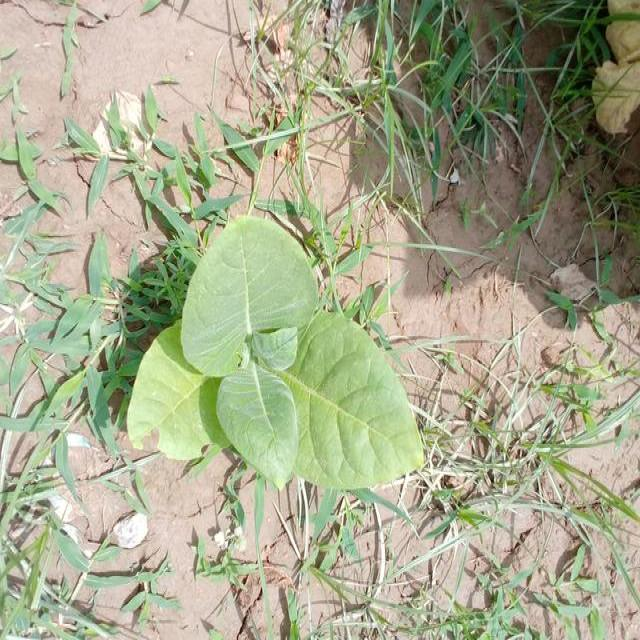crop: (122, 208, 418, 482)
